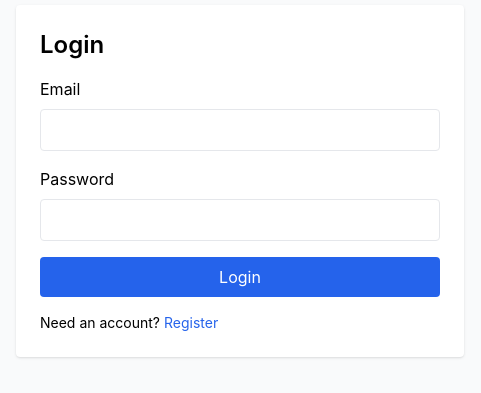
Scenario: LoginPage › prevents empty field submission
Step 1. Click the button "Login" → (240, 277), box 40,257 -> 440,297
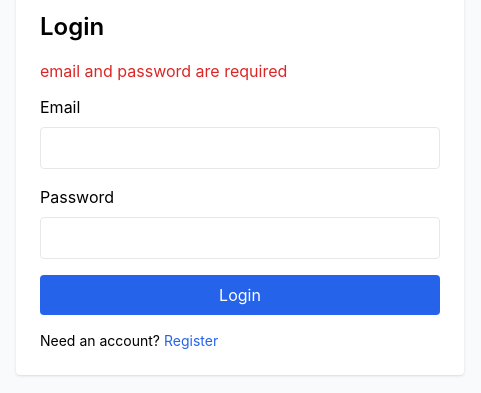
Result: the message shows "required" at 40,61 -> 287,81
